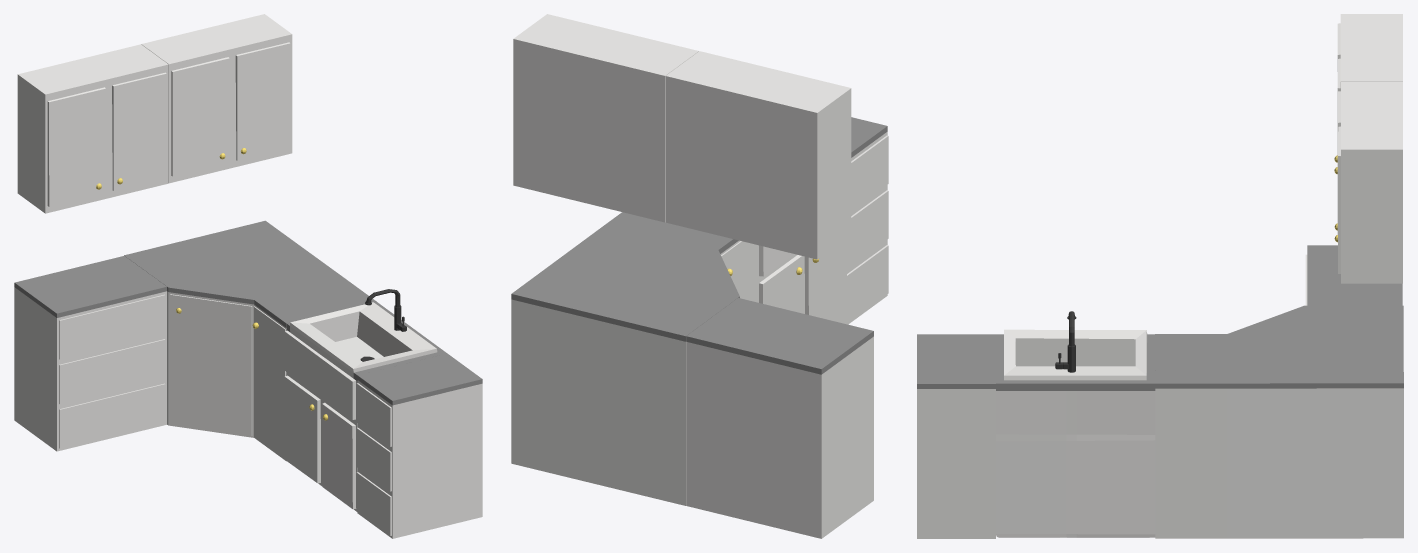
The model's file is Kitchen_set_4.fbx.
3 views of the same model, side by side, from view 1: azimuth 30°, elevation 25°; view 2: azimuth 150°, elevation 25°; view 3: azimuth 270°, elevation 25° (orthographic). The views are drawn at different scales.
Parts seen in each view (by area): view 1: Kitchen_set_4; view 2: Kitchen_set_4; view 3: Kitchen_set_4.
Boxes of the visible parts, <box> form: Kitchen_set_4: <box>14,14,482,538</box>; Kitchen_set_4: <box>511,14,888,538</box>; Kitchen_set_4: <box>917,14,1403,538</box>.
Bounding box in the file's own units: 247 × 368 × 324.
